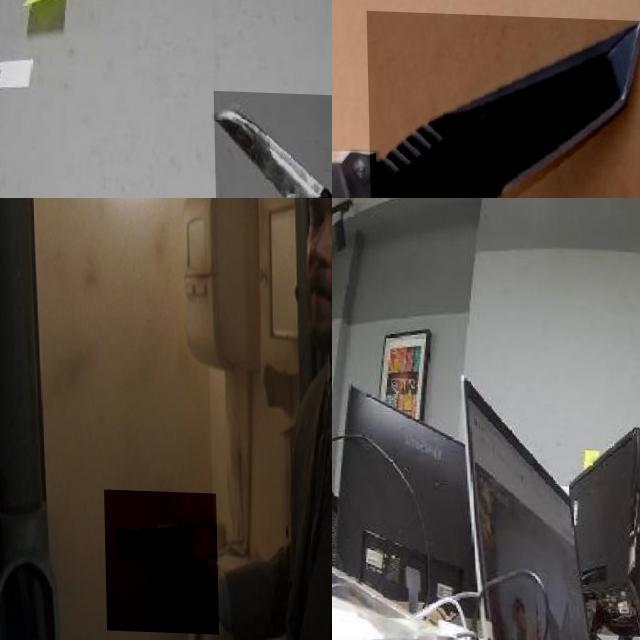-: (367, 8, 640, 198), (213, 88, 332, 198)
gun-knife-thesis - v11 Yolov5 augmented: (102, 488, 217, 632)
